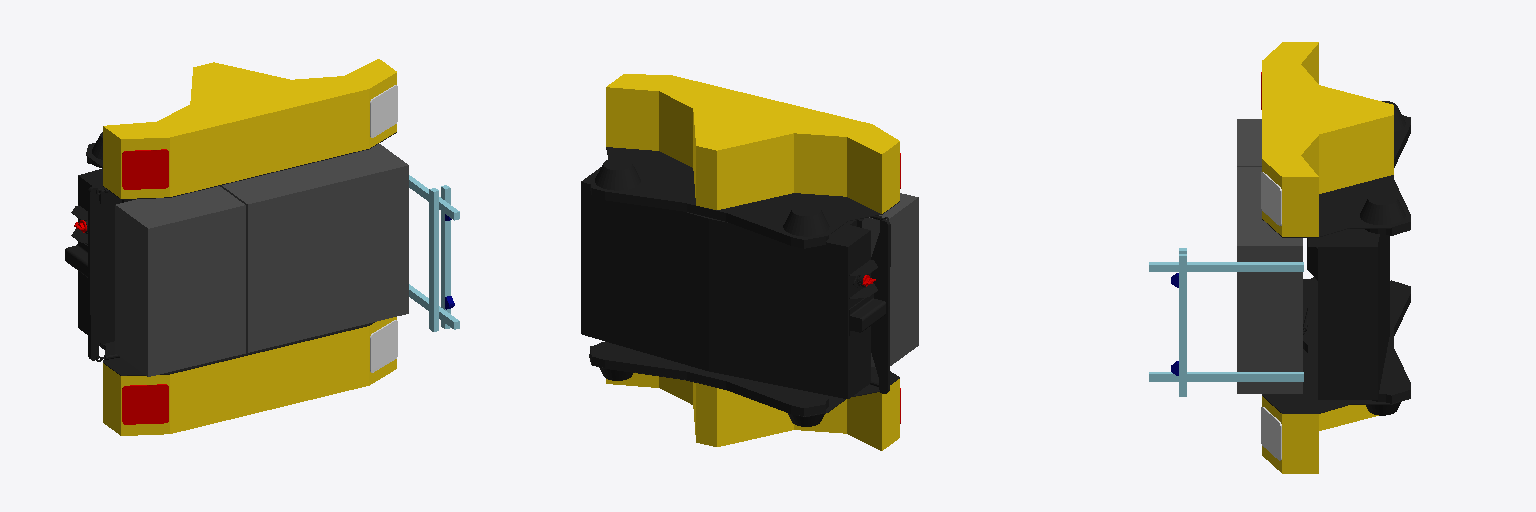
The model's file is clearpath_warthog_no_wheel.obj.
The picture shows the model from 3 angles: view 1: azimuth 30°, elevation 25°; view 2: azimuth 150°, elevation 25°; view 3: azimuth 270°, elevation 25°; orthographic projection.
Visible parts, largest first — view 1: Main_Enclosure, Left_Fender, Battery_Enclosure, Right_Fender, Diff_Link, Chassis, Rear_Right_Light, Rear_Left_Light, Rear_Sensor_Rail, Right_Rocker, Front_Right_Light, Front_Left_Light (+2 smaller); view 2: Chassis, Left_Fender, Left_Rocker, Right_Fender, Right_Rocker, Battery_Enclosure, Diff_Link; view 3: Left_Fender, Chassis, Main_Enclosure, Left_Rocker, Right_Rocker, Right_Fender, Left_Sensor_Support, Right_Sensor_Support, Battery_Enclosure, Front_Sensor_Rail, Front_Left_Light, Front_Right_Light.
Part boxes in pixels (x1,y1,x2,y2): Main_Enclosure: (220, 144, 408, 352); Left_Fender: (103, 59, 396, 198); Battery_Enclosure: (115, 186, 245, 376); Right_Fender: (103, 317, 396, 435); Diff_Link: (88, 186, 114, 360); Chassis: (65, 168, 135, 344); Rear_Right_Light: (122, 384, 168, 424); Rear_Left_Light: (122, 149, 168, 189); Rear_Sensor_Rail: (429, 188, 438, 331); Right_Rocker: (100, 322, 374, 375); Front_Right_Light: (370, 320, 397, 372); Front_Left_Light: (370, 85, 397, 137); Chassis: (581, 167, 885, 398); Left_Fender: (606, 74, 899, 213); Left_Rocker: (589, 147, 899, 248); Right_Fender: (606, 373, 899, 450); Right_Rocker: (589, 341, 899, 426); Battery_Enclosure: (862, 193, 918, 367); Diff_Link: (871, 219, 890, 393); Left_Fender: (1262, 42, 1393, 236); Chassis: (1307, 229, 1389, 399); Main_Enclosure: (1237, 167, 1302, 393); Left_Rocker: (1262, 101, 1410, 237); Right_Rocker: (1262, 279, 1410, 415); Right_Fender: (1262, 396, 1378, 473); Left_Sensor_Support: (1149, 262, 1303, 271); Right_Sensor_Support: (1149, 372, 1303, 381); Battery_Enclosure: (1237, 119, 1261, 166); Front_Sensor_Rail: (1179, 254, 1186, 396); Front_Left_Light: (1261, 172, 1281, 225); Front_Right_Light: (1261, 407, 1281, 460).
Bounding box in the file's own units: 1.4 × 1.37 × 1.1.